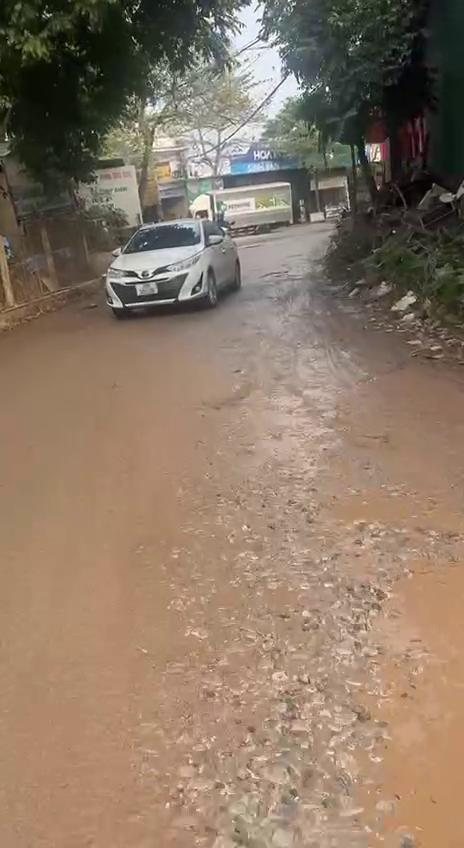pothole: (169, 476, 464, 848)
